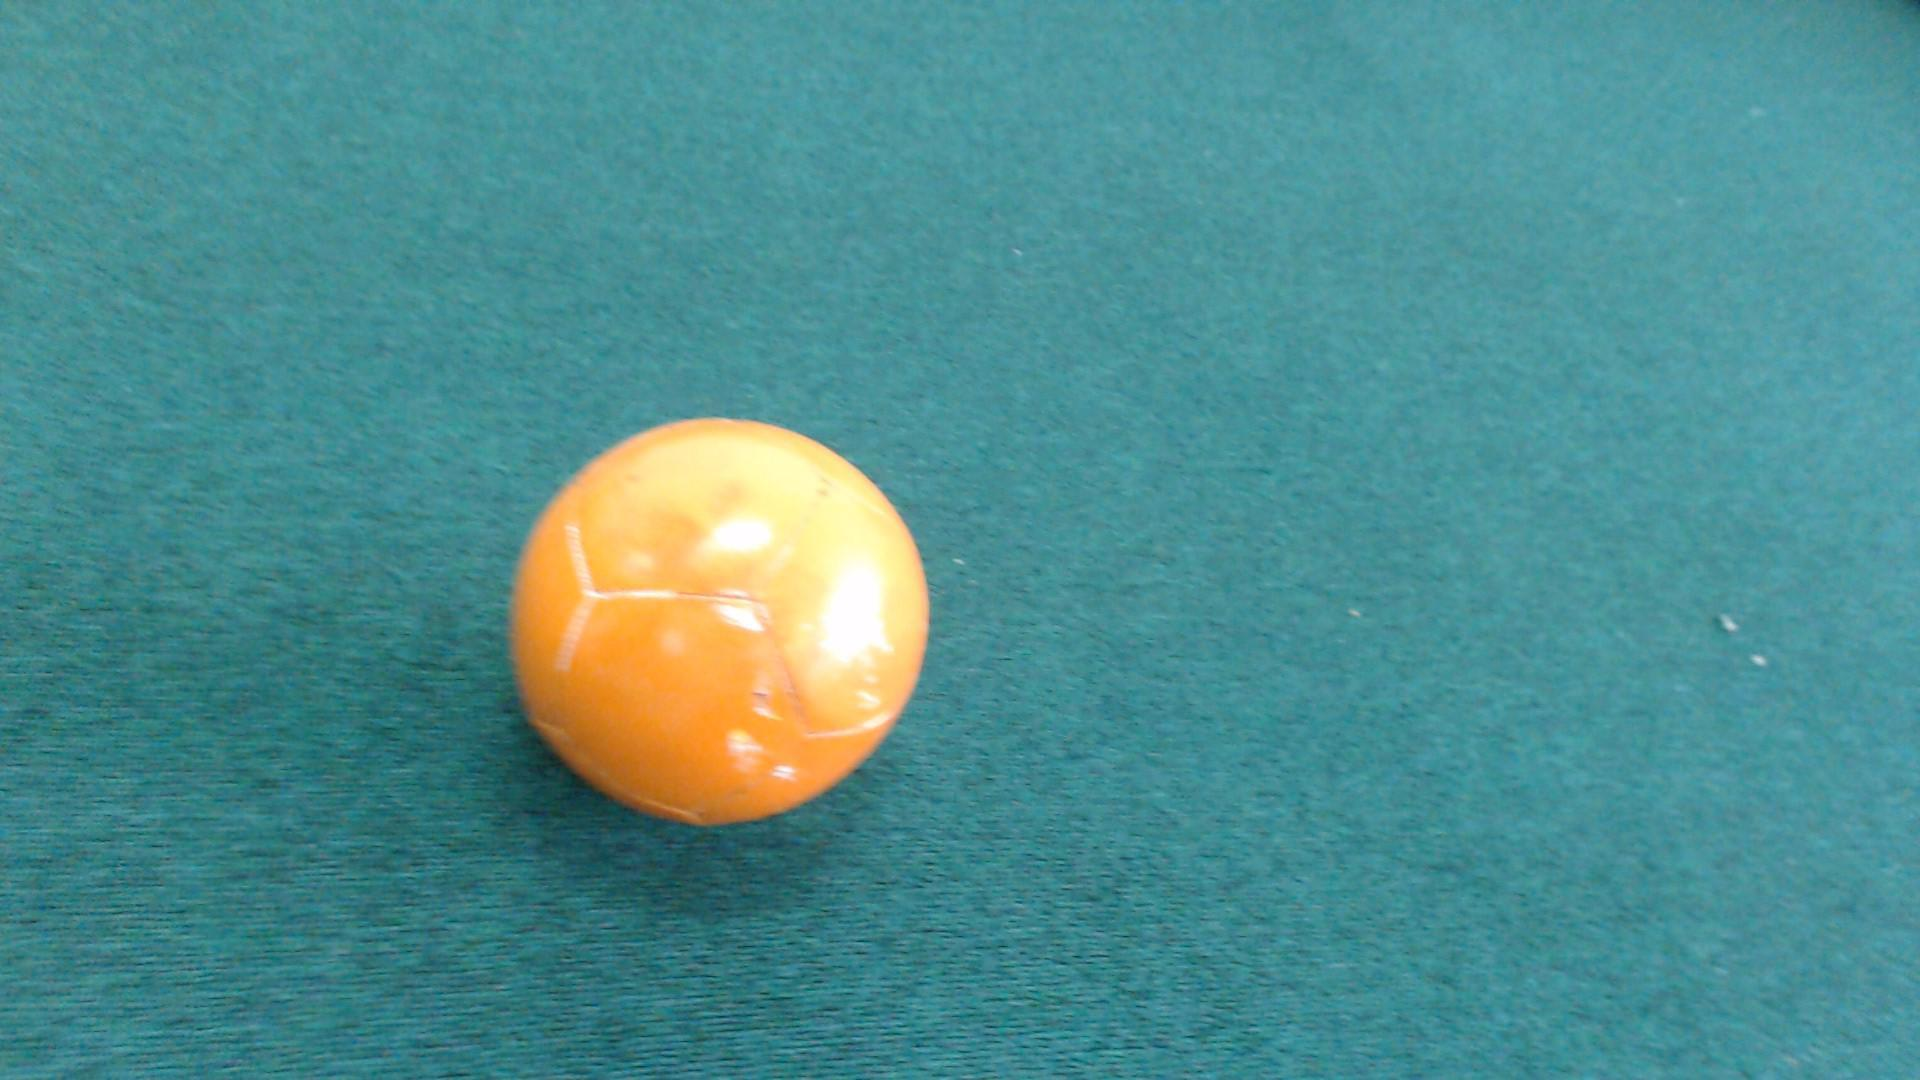bola: (484, 405, 960, 837)
